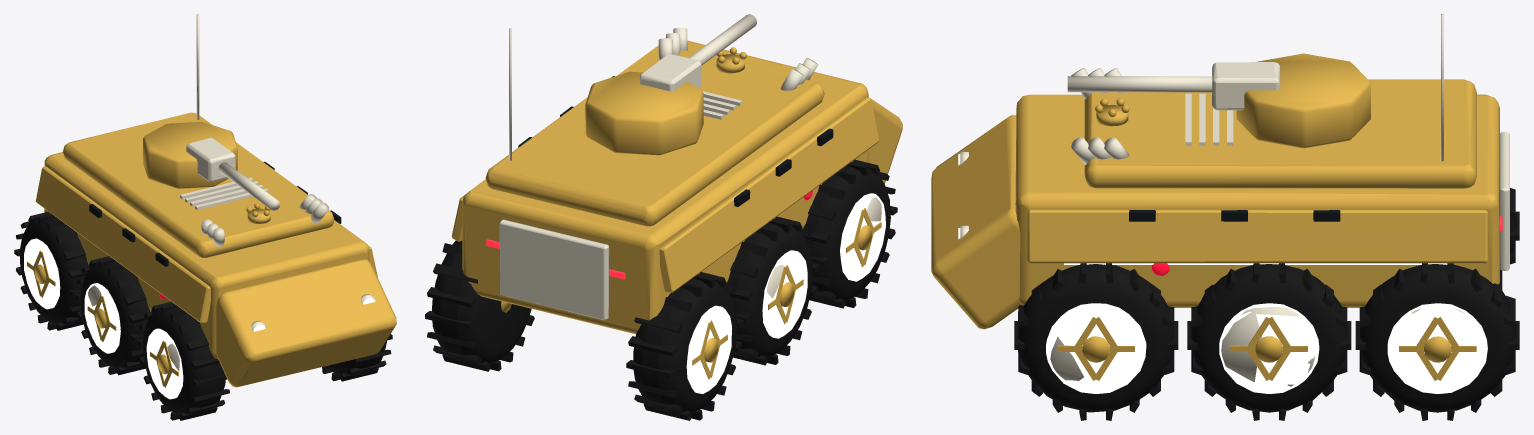
File: apc_guld.glb
3 views of the same model, side by side, from view 1: azimuth 30°, elevation 25°; view 2: azimuth 150°, elevation 25°; view 3: azimuth 270°, elevation 25° (orthographic). The views are drawn at different scales.
Visible parts, largest first — view 1: krop_net; view 2: krop_net; view 3: krop_net.
Boxes of the visible parts, box(x1,y1,x2,y2) form: krop_net: box(14, 14, 396, 420); krop_net: box(425, 14, 902, 420); krop_net: box(931, 14, 1519, 420).
Bounding box in the file's own units: 1.21 × 1.54 × 2.17.
